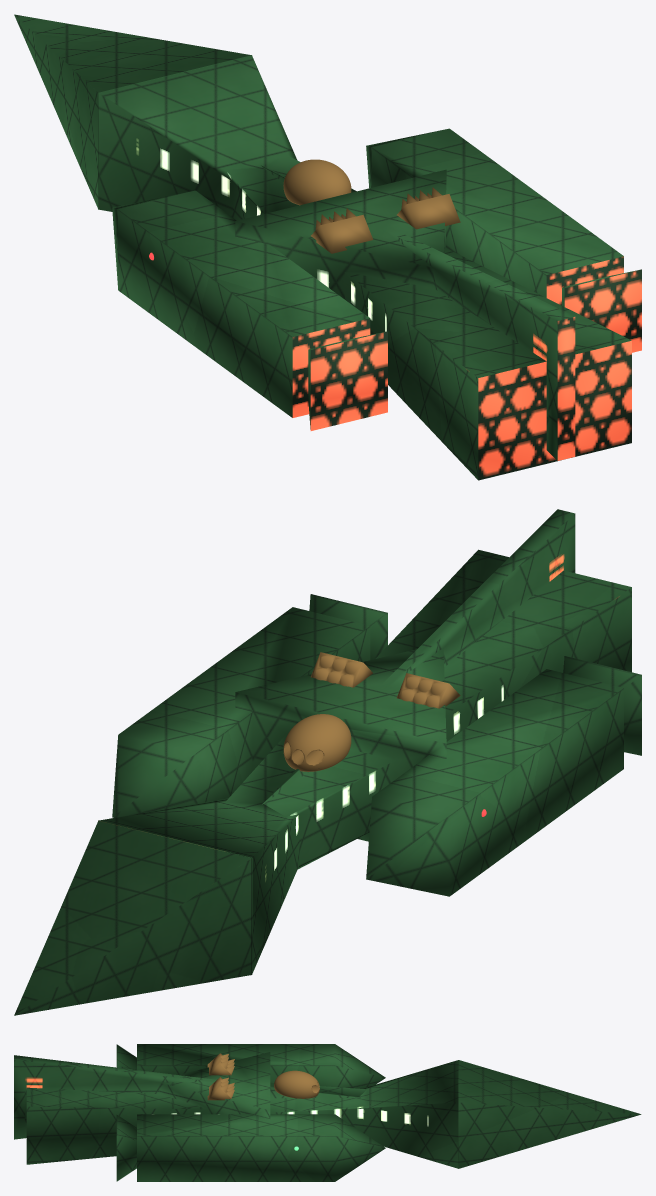
File: krelath_strike_cruiser.glb
The picture shows the model from 3 angles, top to bottom: view 1: azimuth 30°, elevation 25°; view 2: azimuth 150°, elevation 25°; view 3: azimuth 270°, elevation 25°; orthographic projection. The views are drawn at different scales.
Visible parts, largest first — view 1: KrelathStrikeCruiser; view 2: KrelathStrikeCruiser; view 3: KrelathStrikeCruiser.
Part boxes in pixels (x1,y1,x2,y2): KrelathStrikeCruiser: (14,14,641,480); KrelathStrikeCruiser: (14,509,641,1015); KrelathStrikeCruiser: (14,1044,641,1181).
Size of the model in its own units: 17.23 by 8.79 by 49.
1 material, 1 textured.
